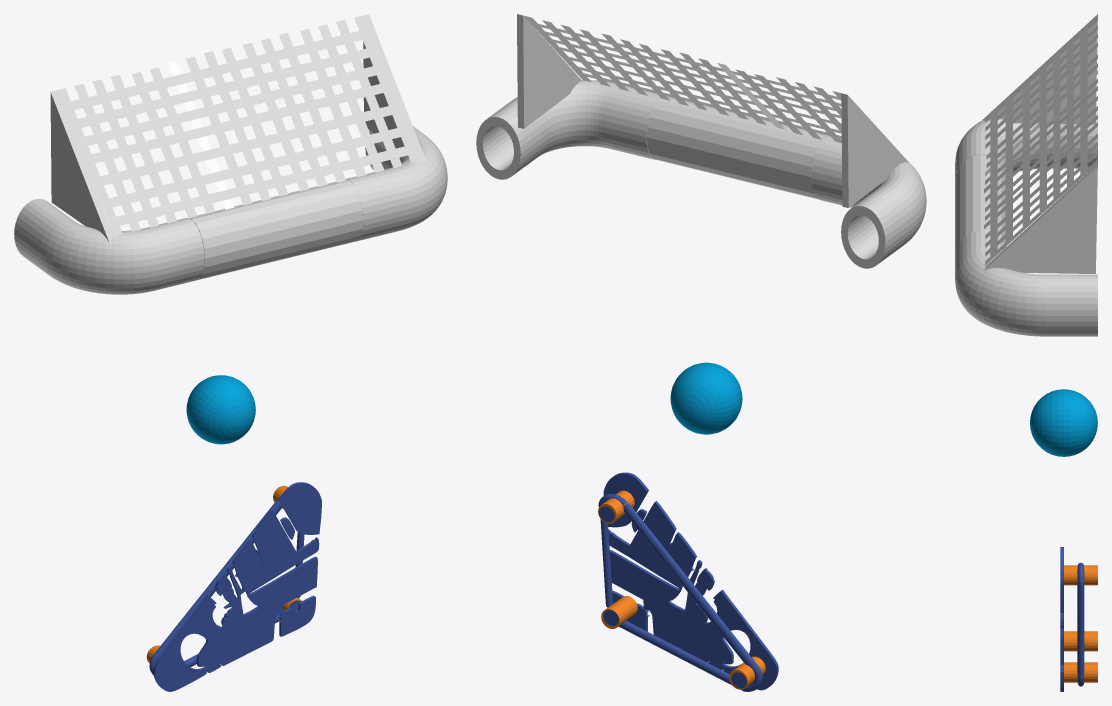
Rendered from tinker.obj.
3 views of the same model, side by side, from view 1: azimuth 30°, elevation 25°; view 2: azimuth 150°, elevation 25°; view 3: azimuth 270°, elevation 25° (orthographic). The views are drawn at different scales.
Parts seen in each view (by area): view 1: group_0_16448250, group_0_3888547, group_0_40919, group_0_16777215; view 2: group_0_16448250, group_0_3888547, group_0_40919, group_0_16089887; view 3: group_0_16448250, group_0_40919, group_0_16089887, group_0_3888547, group_0_16777215.
Boxes of the visible parts, left/top/right/bottom form: group_0_16448250: left=14, top=14, right=447, bottom=294; group_0_3888547: left=149, top=482, right=321, bottom=691; group_0_40919: left=186, top=375, right=255, bottom=444; group_0_16777215: left=168, top=61, right=234, bottom=209; group_0_16448250: left=476, top=14, right=926, bottom=268; group_0_3888547: left=598, top=472, right=778, bottom=691; group_0_40919: left=670, top=362, right=742, bottom=434; group_0_16089887: left=598, top=490, right=765, bottom=689; group_0_16448250: left=955, top=14, right=1097, bottom=336; group_0_40919: left=1030, top=389, right=1097, bottom=456; group_0_16089887: left=1064, top=565, right=1097, bottom=682; group_0_3888547: left=1060, top=547, right=1084, bottom=691; group_0_16777215: left=985, top=70, right=1097, bottom=176.
Size of the model in its own units: 131 by 195 by 42.
